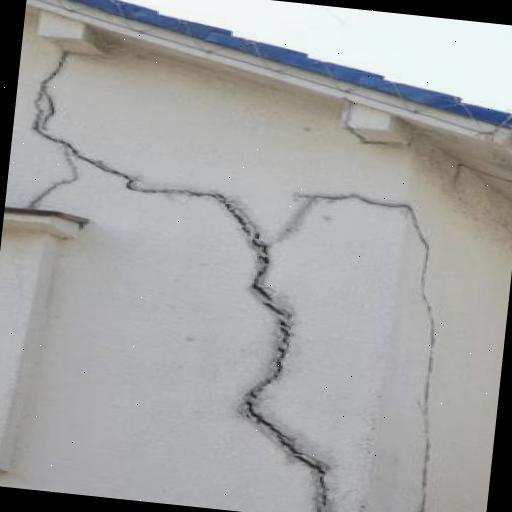spalling: (17, 52, 335, 512), (279, 187, 443, 512)
